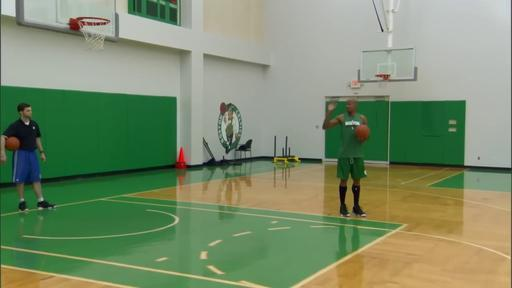ball: (355, 124, 369, 140), (10, 138, 20, 150)
human: (322, 99, 367, 218), (10, 102, 55, 212)
rim: (70, 16, 111, 48), (375, 74, 390, 88)
